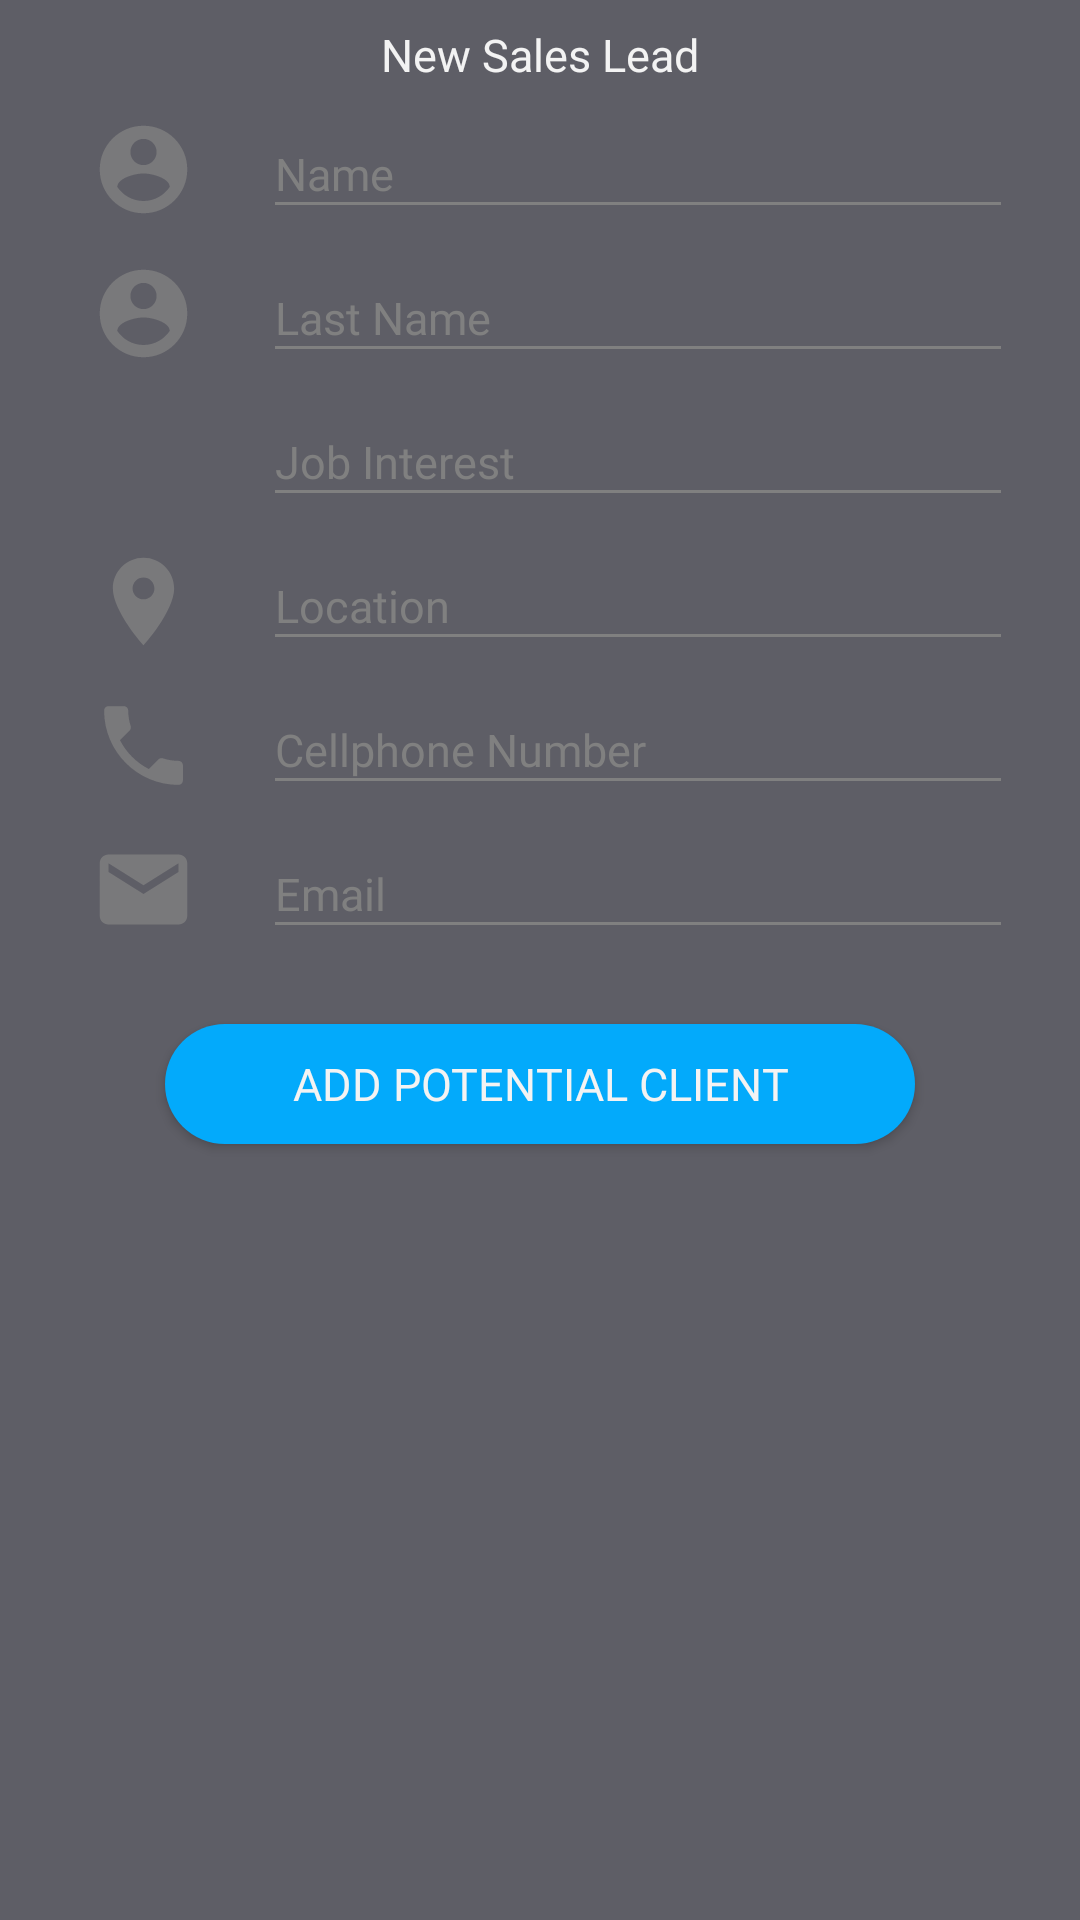

Icon bounding boxes for this 1080×1920 phone screenshot, format BBox(x1, y1, x2, y2):
account: BBox(100, 126, 187, 213), BBox(100, 270, 187, 357)
